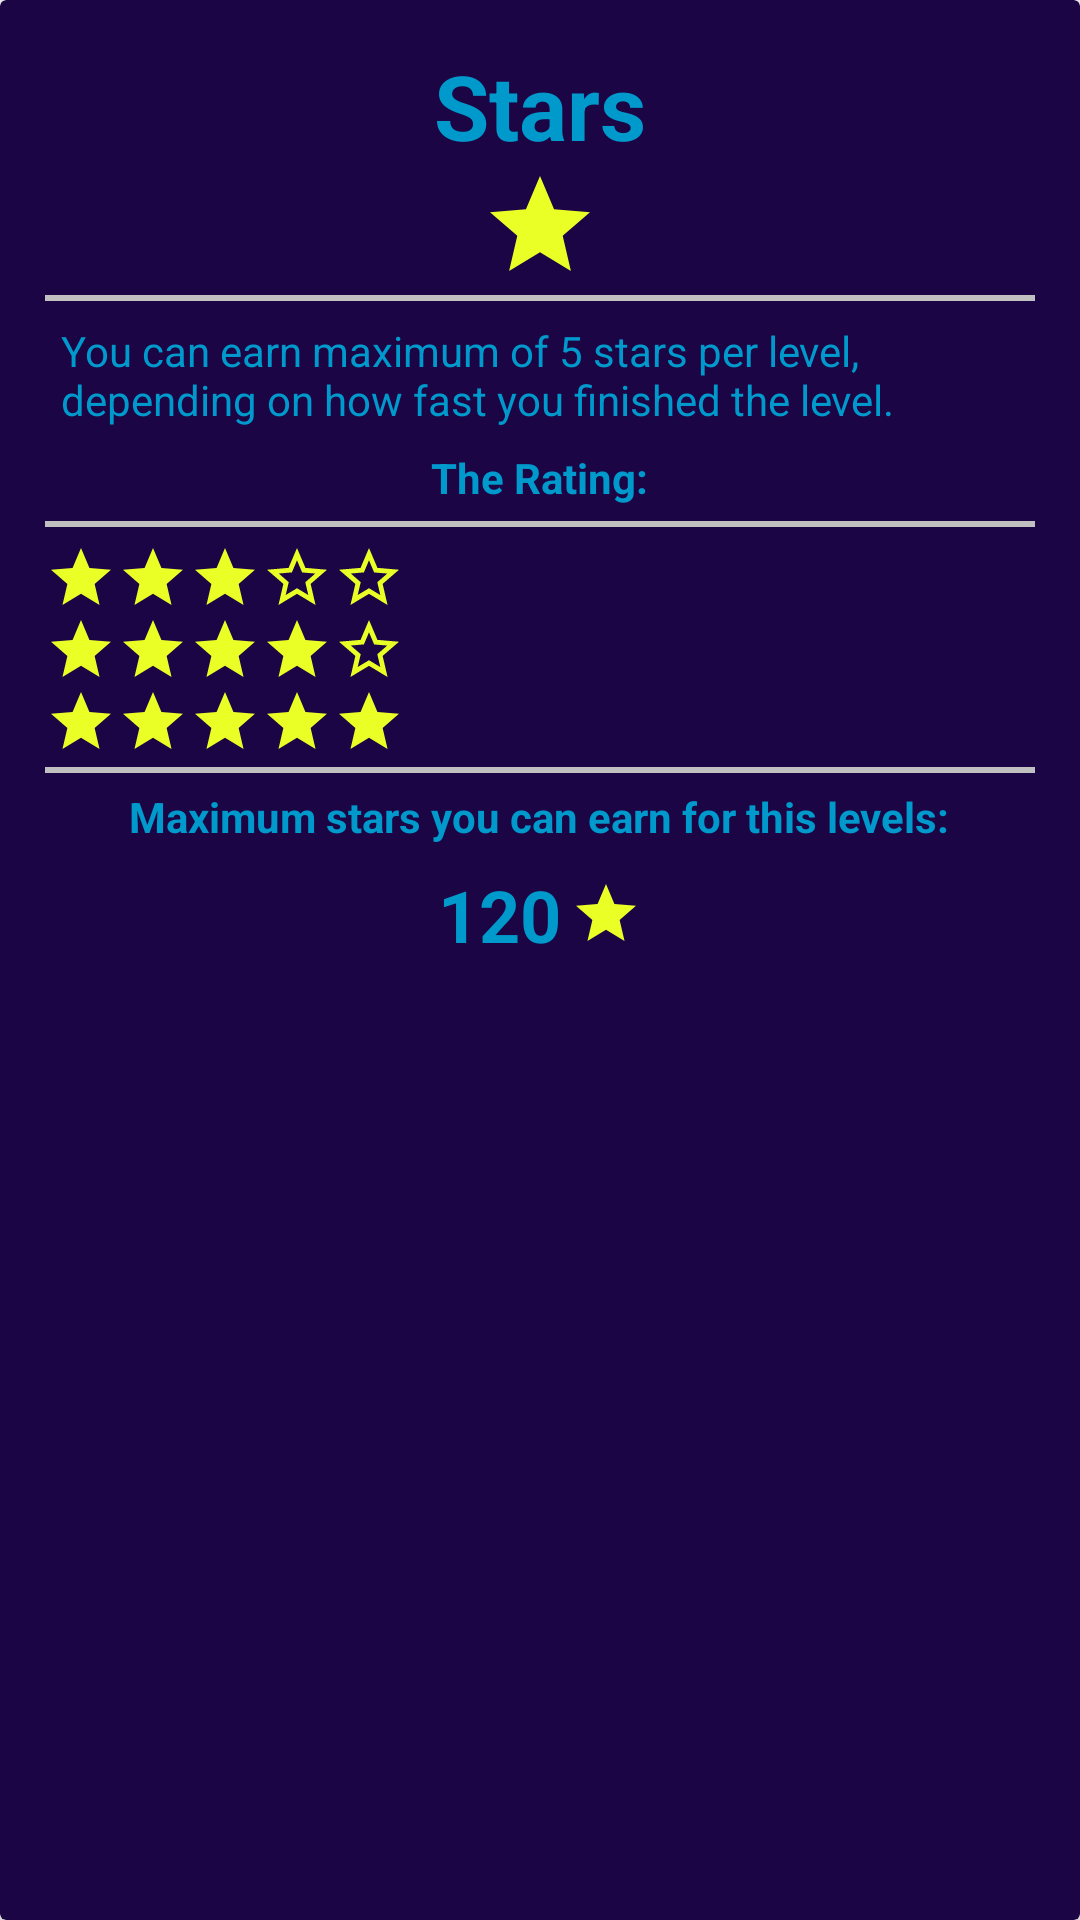

Locate icon controls on the screen. Image size 1080px x 1920px, boxes as (x1, y1, x2, y2).
empty star: (267, 548, 327, 605), (339, 548, 399, 605), (339, 620, 399, 677)
